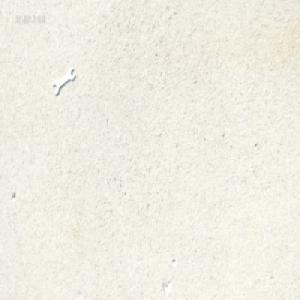Wrench: (51, 64, 74, 96)
